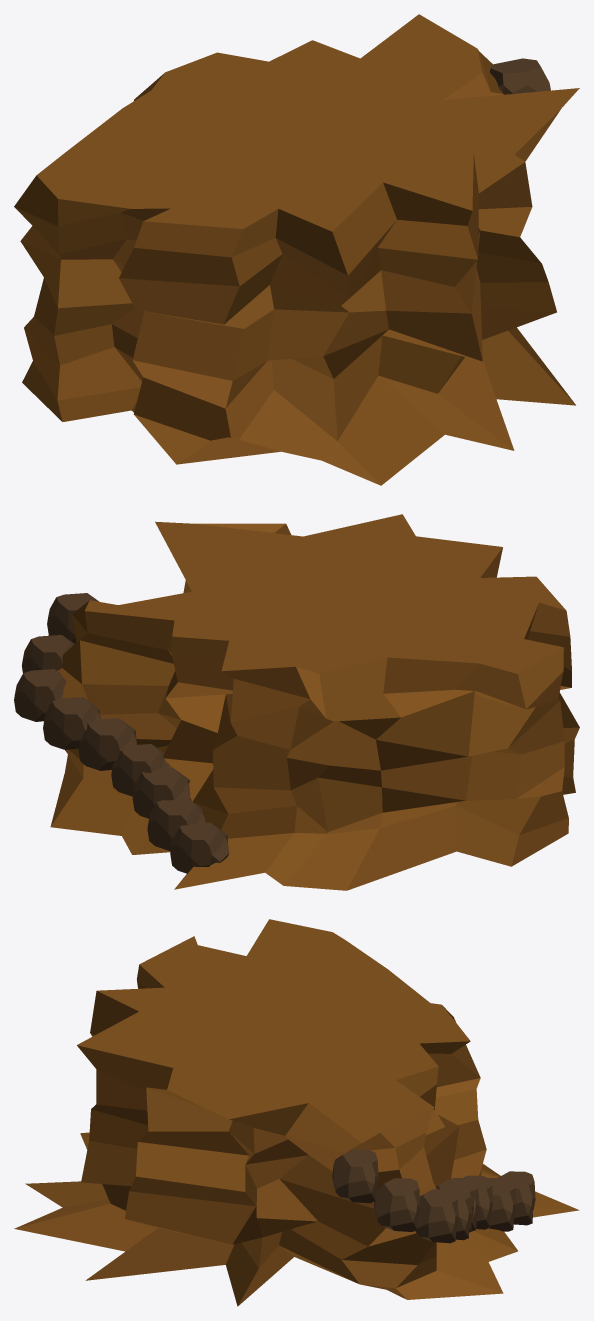
File: Cliff_1WithStair.fbx
3 views of the same model, one above another, from view 1: azimuth 30°, elevation 25°; view 2: azimuth 150°, elevation 25°; view 3: azimuth 270°, elevation 25° (orthographic). The views are drawn at different scales.
Parts seen in each view (by area): view 1: Plane, Cube.008; view 2: Plane, Cube, Cube.004, Cube.005, Cube.006, Cube.002, Cube.001, Cube.003, Cube.007, Cube.008; view 3: Plane, Cube.008, Cube.007, Cube.006, Cube.001, Cube, Cube.002, Cube.005.
Boxes of the visible parts, x1,y1,x2,y2 form: Plane: [14, 14, 579, 485]; Cube.008: [490, 58, 550, 94]; Plane: [50, 514, 579, 890]; Cube: [170, 822, 229, 873]; Cube.004: [78, 718, 136, 770]; Cube.005: [43, 697, 100, 749]; Cube.006: [14, 669, 66, 721]; Cube.002: [132, 767, 190, 818]; Cube.001: [147, 798, 205, 850]; Cube.003: [111, 744, 169, 796]; Cube.007: [22, 635, 74, 673]; Cube.008: [47, 593, 99, 643]; Plane: [14, 919, 579, 1306]; Cube.008: [332, 1149, 378, 1203]; Cube.007: [374, 1178, 420, 1231]; Cube.006: [415, 1189, 458, 1243]; Cube.001: [489, 1177, 516, 1231]; Cube: [498, 1171, 535, 1225]; Cube.002: [463, 1175, 493, 1229]; Cube.005: [441, 1186, 471, 1240].
Bounding box in the file's own units: 199 × 88.55 × 210.
